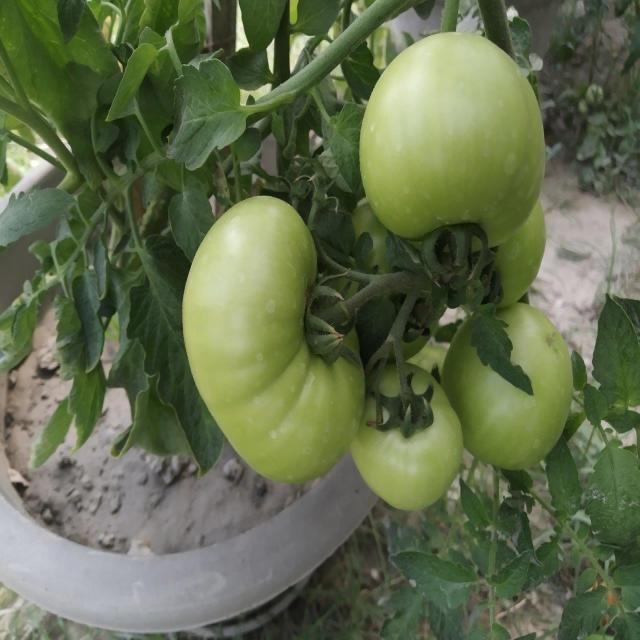Unripe: (180, 191, 365, 483), (360, 29, 547, 250), (442, 299, 574, 471), (350, 360, 462, 511)
